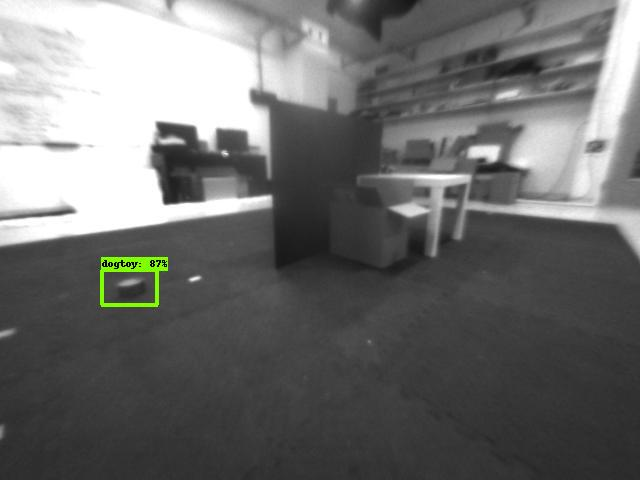dogtoy: (102, 271, 152, 300)
